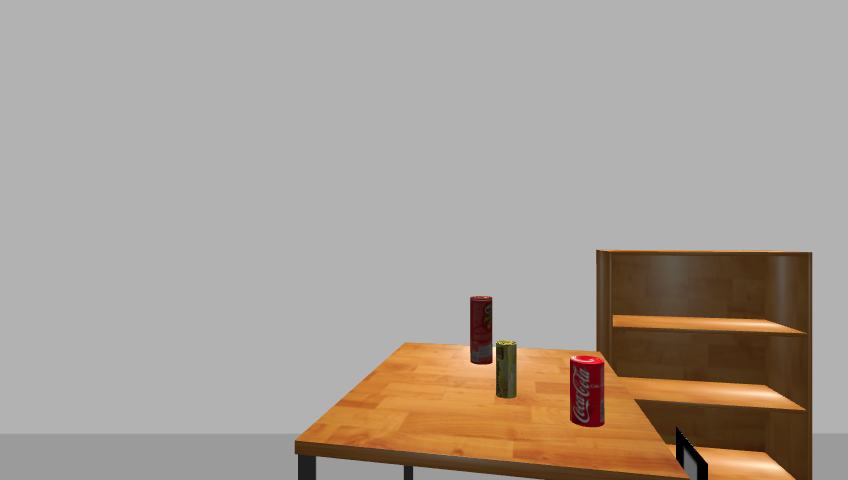aruco marker: (672, 427, 712, 480)
biscuits pack: (495, 340, 519, 400)
bookshelf: (590, 248, 819, 480)
coke can: (567, 356, 606, 427)
dinner table: (289, 341, 693, 479)
pringles can: (467, 295, 495, 366)
